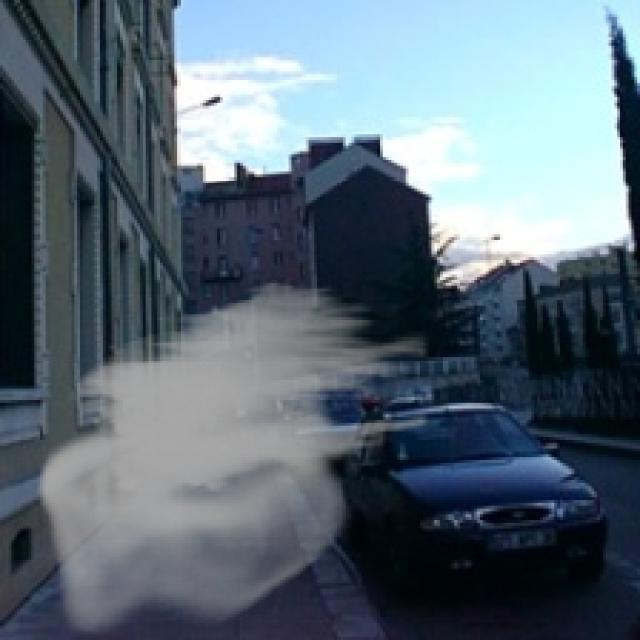Smoke: (37, 277, 429, 634)
